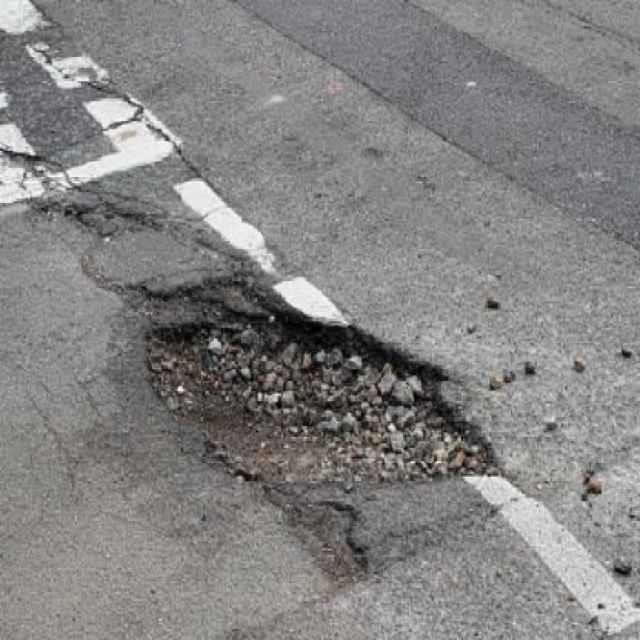Pothole: (125, 303, 506, 505)
